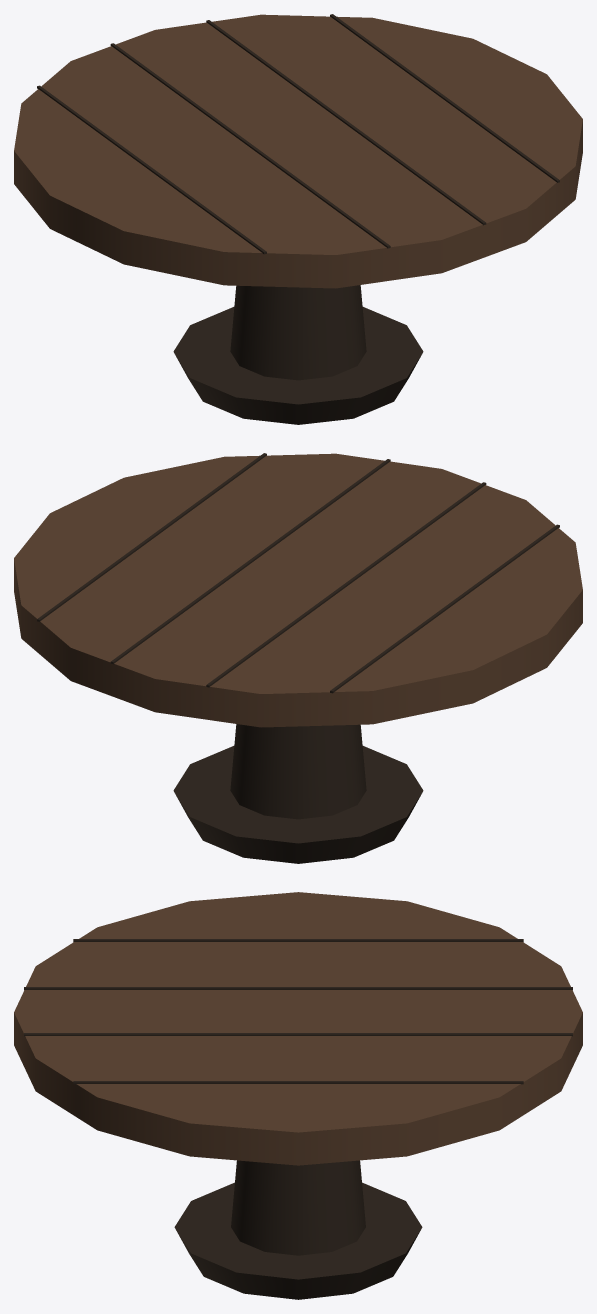
The model's file is sk_table_round.glb.
The picture shows the model from 3 angles, top to bottom: view 1: azimuth 30°, elevation 25°; view 2: azimuth 150°, elevation 25°; view 3: azimuth 270°, elevation 25°; orthographic projection.
Parts seen in each view (by area): view 1: wood; view 2: wood; view 3: wood.
Boxes of the visible parts, box(x1,y1,x2,y2) form: wood: box(14, 14, 582, 424); wood: box(14, 453, 582, 863); wood: box(14, 892, 582, 1299).
Bounding box in the file's own units: 1.56 × 0.735 × 1.56.
